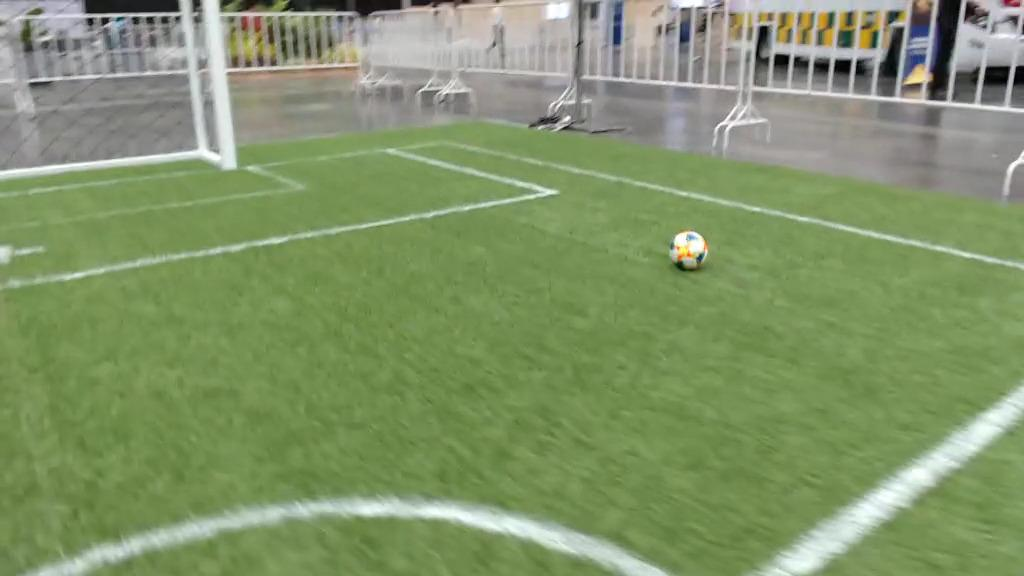ball: (669, 230, 708, 270)
